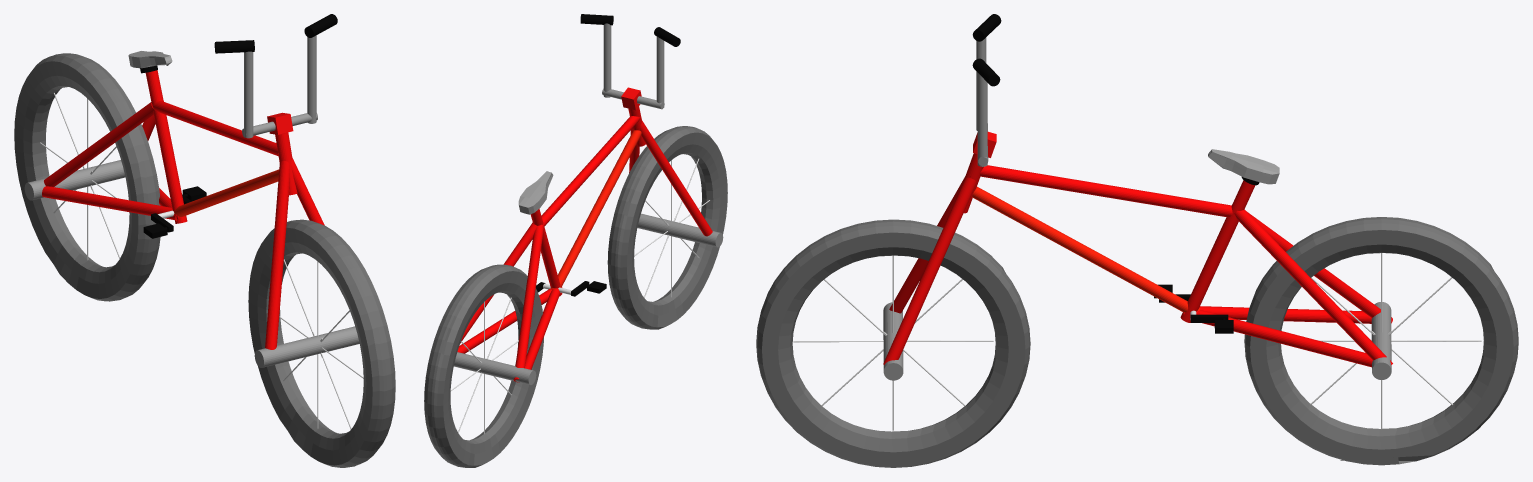
File: Bicycle_Model_colour_flipped.fbx
3 renders of one model, left to right at view 1: azimuth 30°, elevation 25°; view 2: azimuth 150°, elevation 25°; view 3: azimuth 270°, elevation 25°, orthographic. The views are drawn at different scales.
Parts seen in each view (by area): view 1: Tyre, Tyre.004, Cylinder.007, Wheel Connector.005, Cylinder.004, Cylinder.003, Cylinder, Cylinder.005, Wheel Connector, Cylinder.006, Cylinder.010, Cylinder.011 (+7 smaller); view 2: Tyre.004, Tyre, Cylinder.006, Cylinder.003, Cylinder.005, Cylinder.007, Wheel Connector.005, Wheel Connector, Cylinder, Cube, Cylinder.001, Cylinder.004 (+6 smaller); view 3: Tyre.004, Tyre, Cylinder.005, Cylinder.006, Cylinder.012, Cylinder.008, Cylinder.001, Cylinder.004, Cube, Cylinder, Cylinder.003, Wheel Connector (+3 smaller).
Part boxes in pixels (x1,y1,x2,y2): Tyre: (14,53,160,301); Tyre.004: (248,219,395,467); Cylinder.007: (265,161,289,349); Wheel Connector.005: (254,326,359,367); Cylinder.004: (145,70,187,223); Cylinder.003: (44,102,153,186); Cylinder: (42,186,178,219); Cylinder.005: (152,101,278,156); Wheel Connector: (24,160,125,200); Cylinder.006: (174,169,279,216); Cylinder.010: (244,51,253,138); Cylinder.011: (307,35,316,123); Tyre.004: (607,126,727,329); Tyre: (424,264,543,467); Cylinder.006: (551,130,641,289); Cylinder.003: (513,224,543,382); Cylinder.005: (541,116,640,226); Cylinder.007: (640,120,712,236); Wheel Connector.005: (637,213,723,247); Wheel Connector: (454,352,536,384); Cylinder: (525,288,560,369); Cube: (518,171,553,214); Cylinder.001: (457,287,561,353); Cylinder.004: (530,208,562,296); Tyre.004: (756,219,1030,467); Tyre: (1244,217,1518,465); Cylinder.005: (980,165,1232,217); Cylinder.006: (972,186,1200,312); Cylinder.012: (1234,209,1392,364); Cylinder.008: (883,177,975,364); Cylinder.001: (1183,310,1372,367); Cylinder.004: (1180,180,1255,322); Cube: (1208,149,1279,184); Cylinder: (1199,306,1371,323); Cylinder.003: (1247,212,1392,323); Wheel Connector: (1371,302,1391,379).
Bounding box in the file's own units: 122 × 372 × 610.
